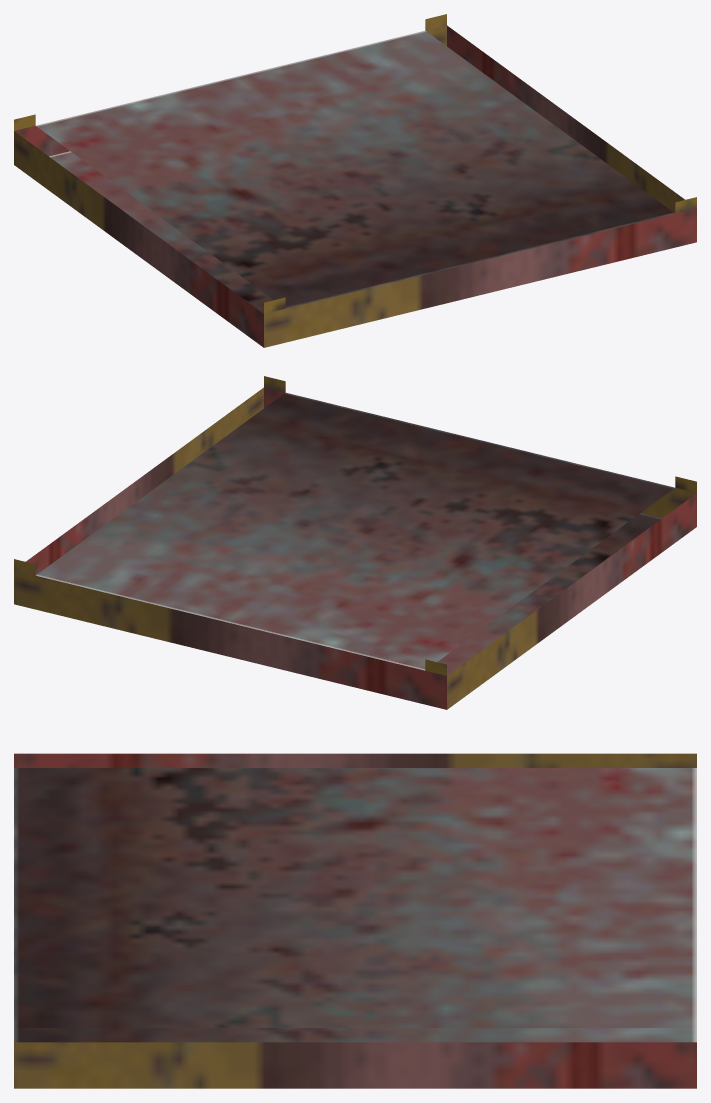
File: SM_FLOOR_08.fbx
3 renders of one model, top to bottom at view 1: azimuth 30°, elevation 25°; view 2: azimuth 150°, elevation 25°; view 3: azimuth 270°, elevation 25°, orthographic. The views are drawn at different scales.
Visible parts, largest first — view 1: SM_FLOOR_08; view 2: SM_FLOOR_08; view 3: SM_FLOOR_08.
Boxes of the visible parts, x1=… form: SM_FLOOR_08: x1=14, y1=14, x2=696, y2=347; SM_FLOOR_08: x1=14, y1=376, x2=696, y2=709; SM_FLOOR_08: x1=14, y1=753, x2=696, y2=1088.
Size of the model in its own units: 2 by 0.2 by 2.
